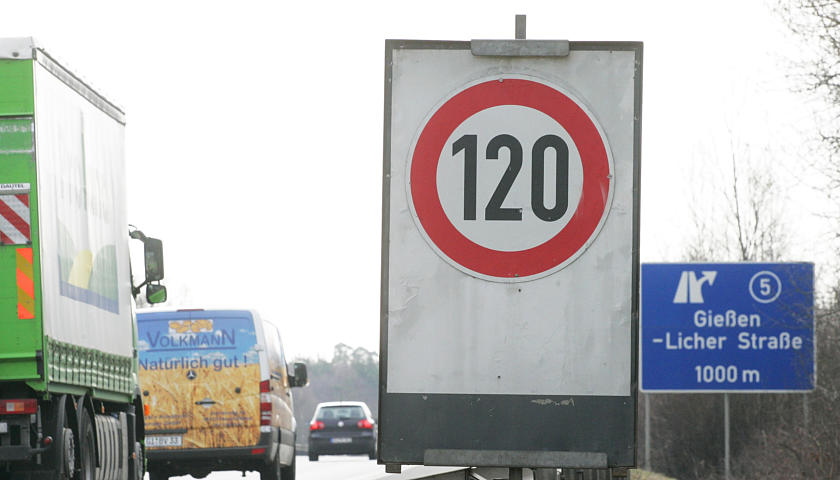Speed_limit_120km: (405, 75, 616, 284)
